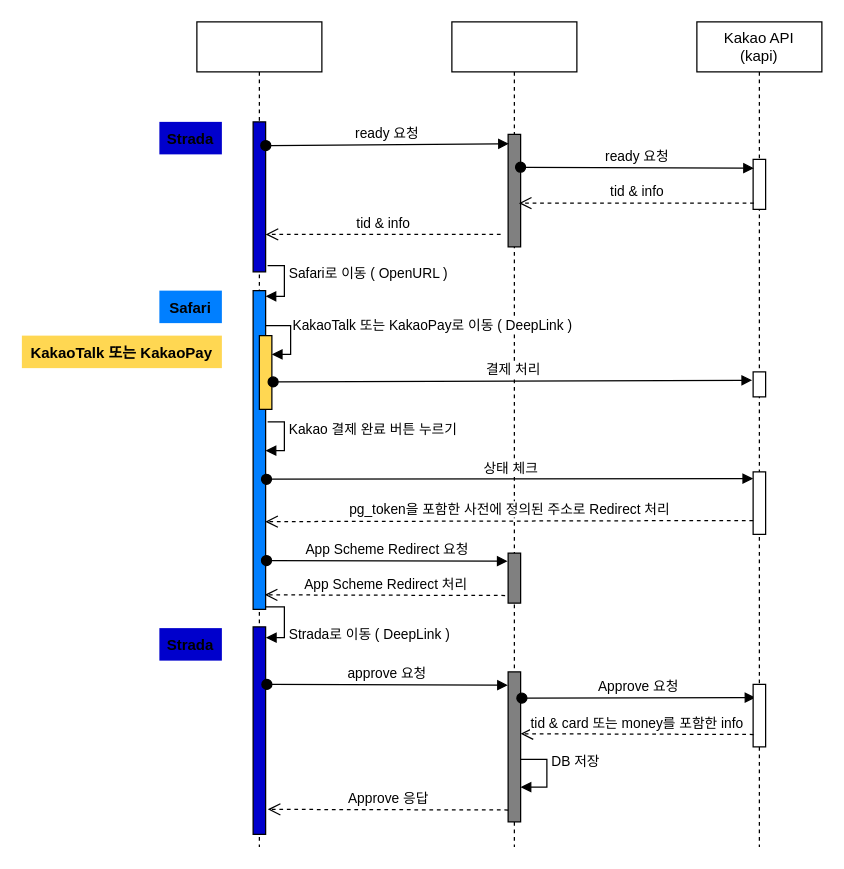
Some shapes in this 844 by 869 pixel diagram are drawn without their labels. Here are the shapes that lost their labels. From the top down, the box of each, then its label:
(196, 21, 322, 847): iOS (Front-End)
(451, 21, 577, 847): Spring (Back-End)
